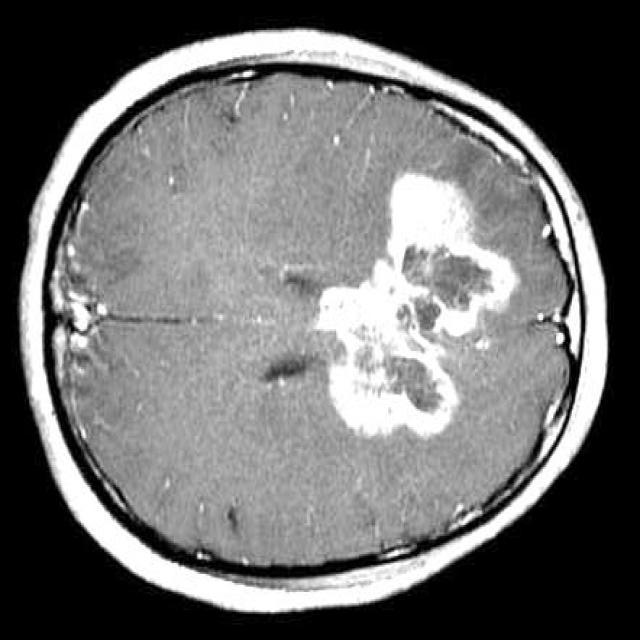tumor: (317, 172, 521, 437)
